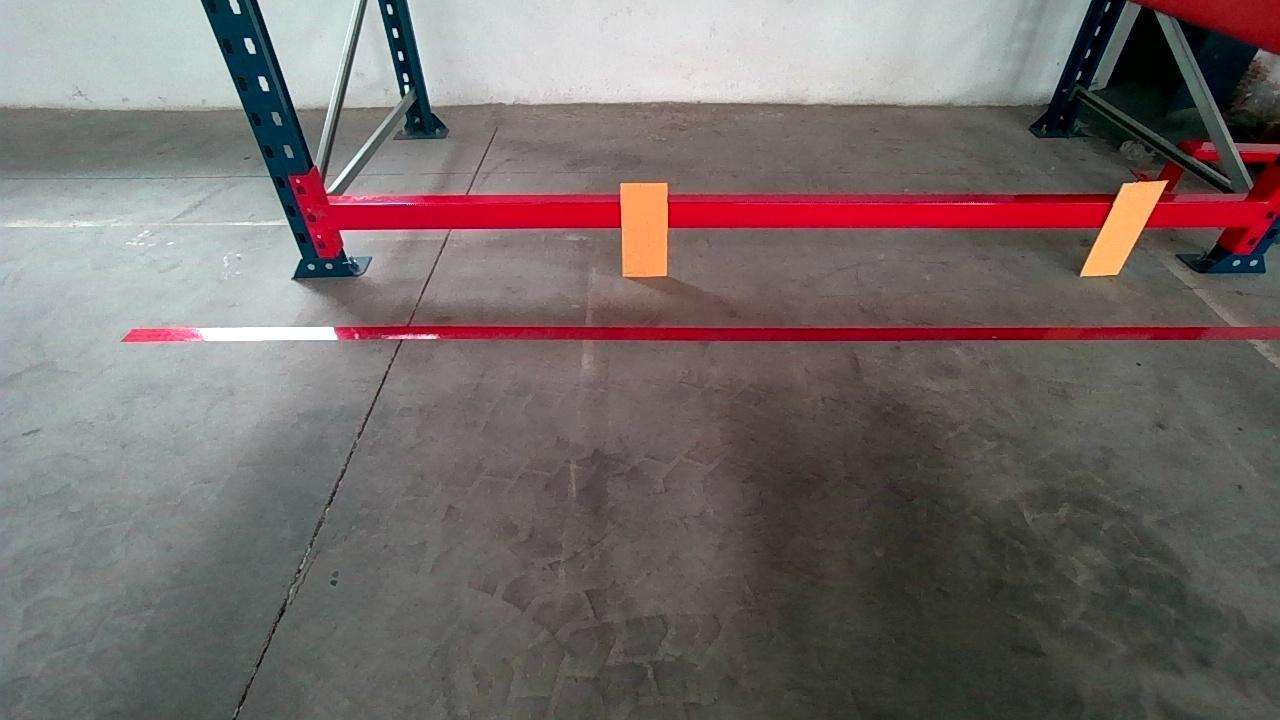h_rack: (330, 203, 1264, 227)
orange_strip: (1080, 181, 1167, 274), (621, 181, 669, 275)
red_line: (124, 322, 1280, 345)
